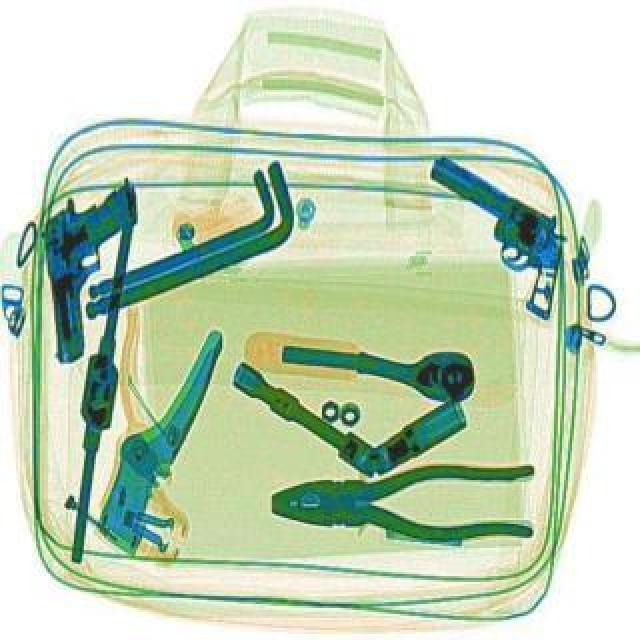gun: (386, 148, 598, 318), (34, 176, 158, 362)
wrench: (270, 458, 534, 538)
